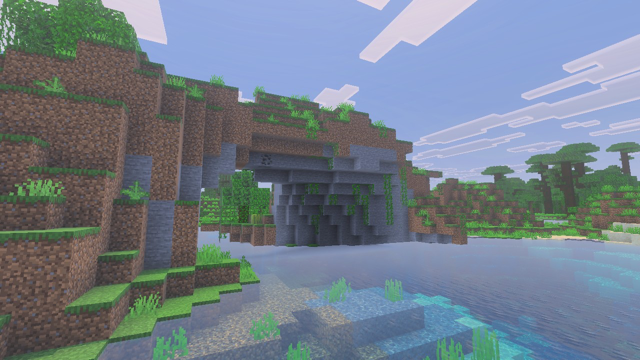coal: (261, 152, 274, 168)
